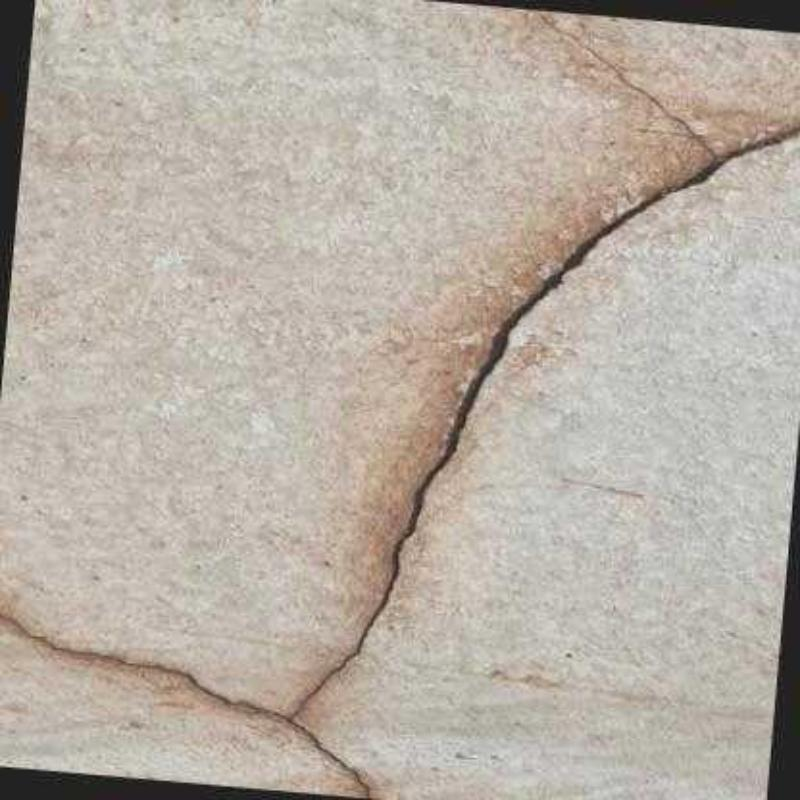pothole: (0, 125, 798, 799), (537, 13, 715, 158)
